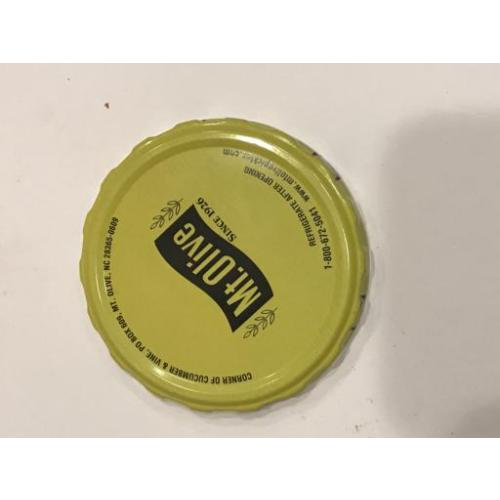metal: (80, 118, 370, 411)
